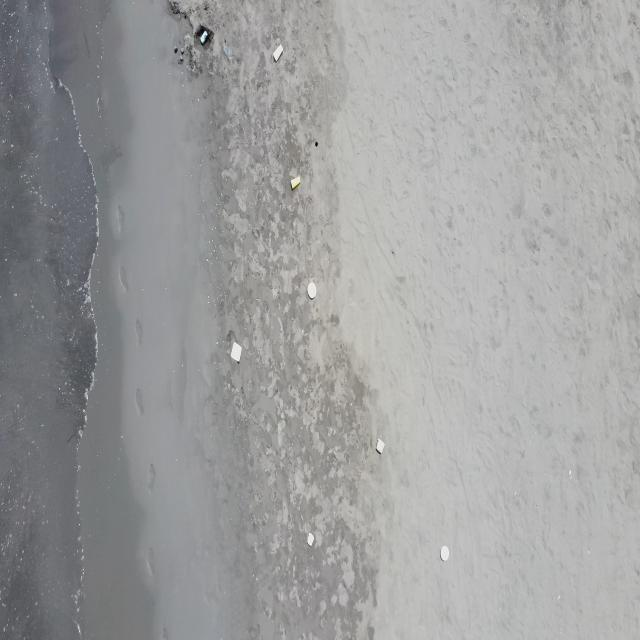take-away-containers: (230, 341, 242, 364), (307, 282, 317, 299), (440, 545, 450, 561), (376, 438, 385, 454), (306, 532, 314, 547)
takeaway-cup: (273, 44, 283, 62), (291, 176, 301, 190), (223, 46, 232, 61), (200, 30, 208, 45), (2, 627, 6, 634)
